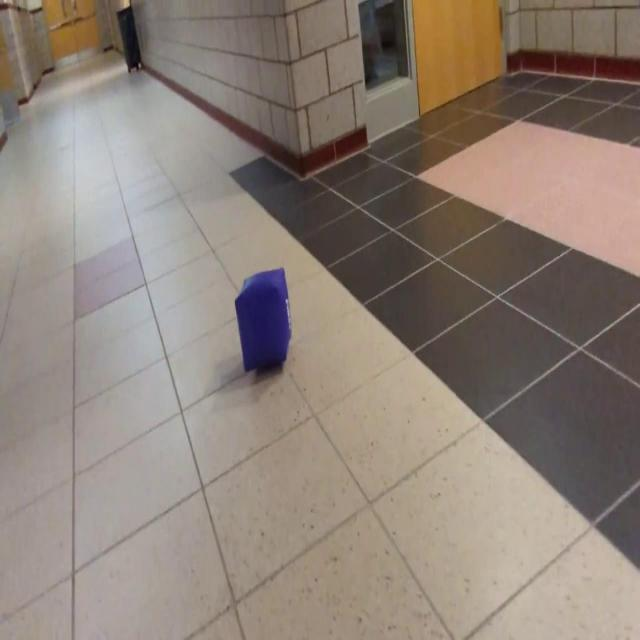frc_cube: (239, 268, 290, 370)
